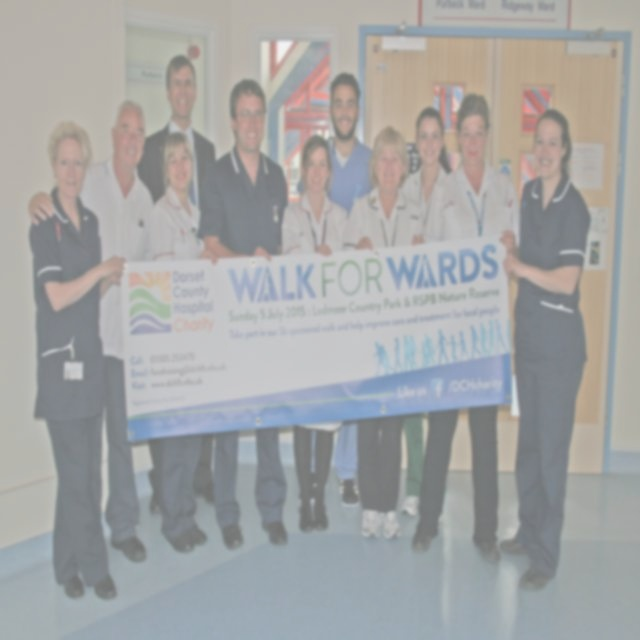pessoa: (26, 98, 158, 566), (410, 90, 520, 566), (30, 119, 126, 601), (501, 105, 594, 595), (195, 77, 290, 550), (341, 122, 426, 540), (296, 70, 376, 510), (386, 104, 456, 518), (150, 130, 218, 554), (279, 132, 349, 536), (136, 54, 220, 218)
